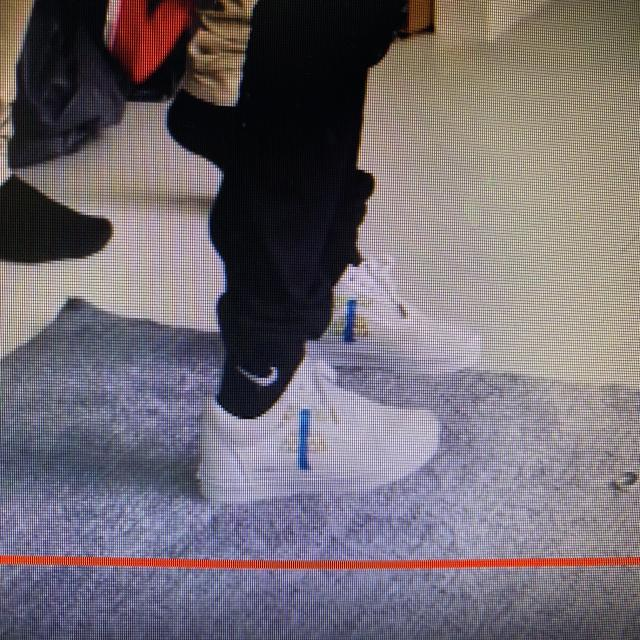shoe: (190, 331, 448, 511), (300, 240, 493, 385)
